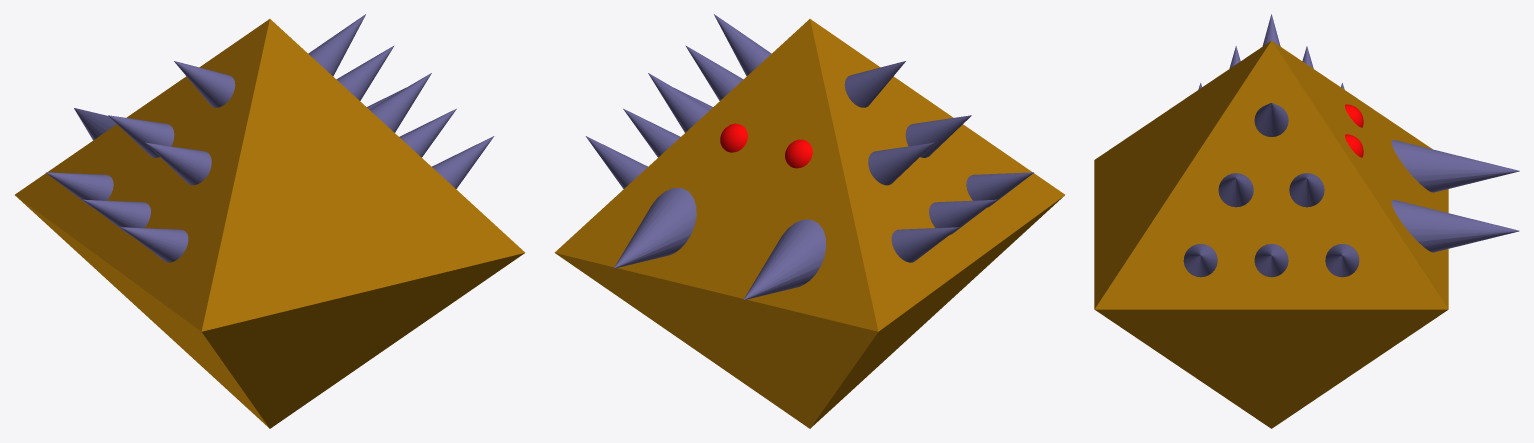
Rendered from head.obj.
The picture shows the model from 3 angles, left to right: view 1: azimuth 30°, elevation 25°; view 2: azimuth 150°, elevation 25°; view 3: azimuth 270°, elevation 25°; orthographic projection. The views are drawn at different scales.
Parts seen in each view (by area): view 1: mergedBlocks; view 2: mergedBlocks; view 3: mergedBlocks.
Boxes of the visible parts, x1,y1,x2,y2 form: mergedBlocks: [15, 14, 525, 428]; mergedBlocks: [554, 14, 1064, 428]; mergedBlocks: [1094, 14, 1519, 428].
Size of the model in its own units: 1.15 by 1.21 by 1.2.
